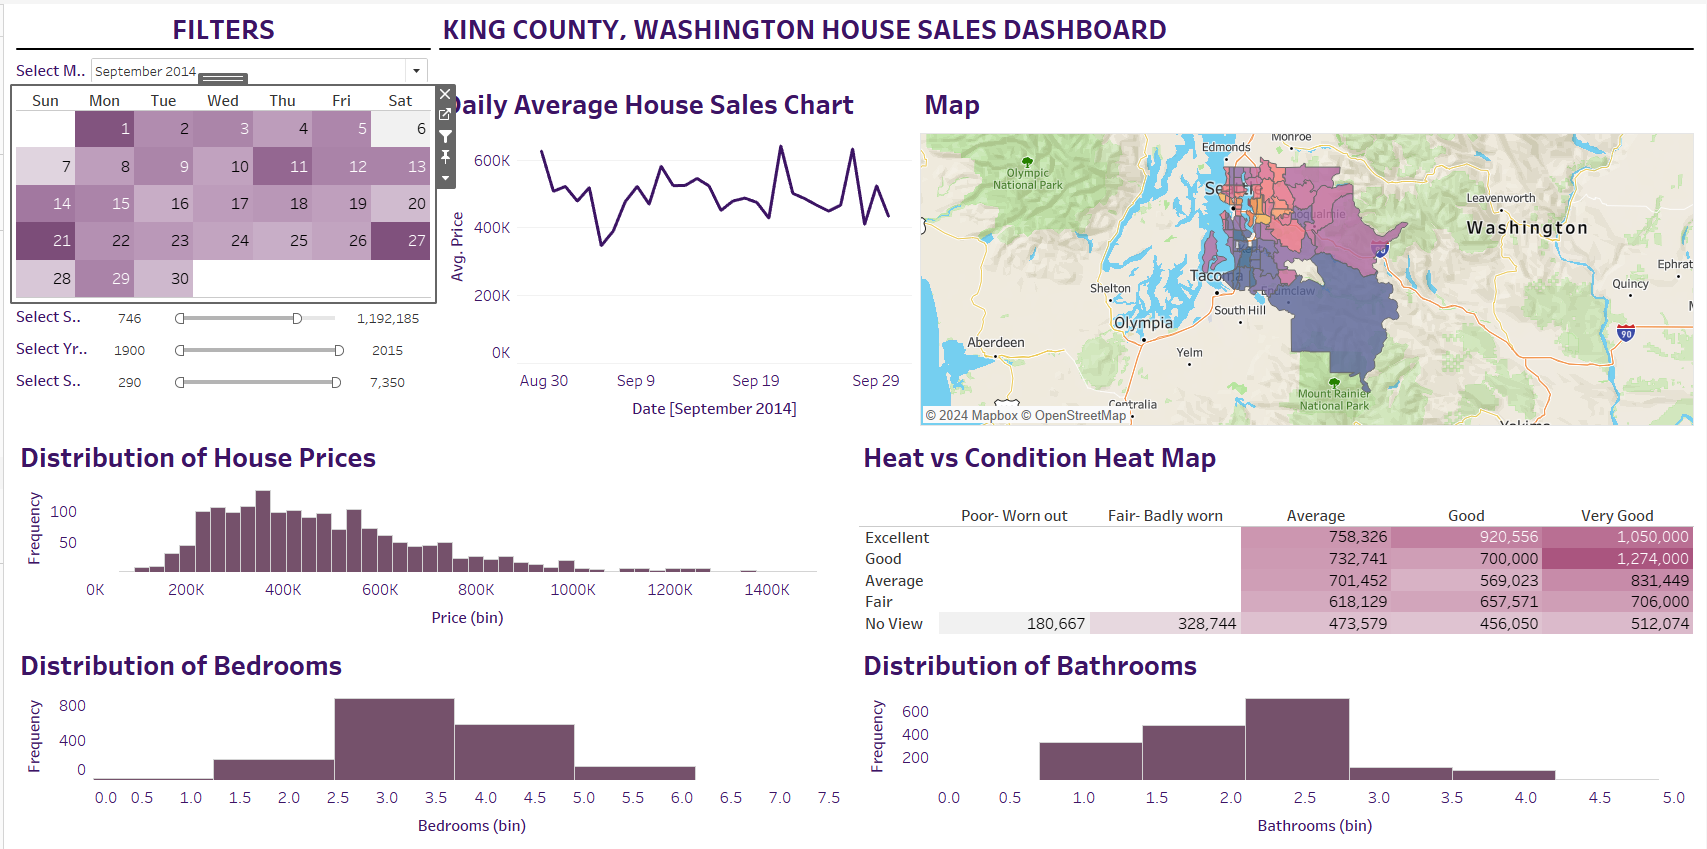

What the dashboard file says about the page in this screenshot:
{"tool":"tableau","page":{"name":"KingCountySalesDashboard","canvas":[1000,1000],"units":"permille","ordinal":0},"visuals":[{"type":"text","box":[4.7,9.4,248.5,37.6]},{"type":"text","box":[253.2,9.4,742.1,37.6]},{"type":"blank","box":[4.7,47,248.5,11.8]},{"type":"blank","box":[253.2,47,742.1,11.8]},{"type":"filter","title":"Calendar","param":"[federated.1i957kf04trd4o1b6taf509li0nt].[my:date:ok]","box":[4.7,58.8,248.5,37.6]},{"type":"worksheet","title":"Line Chart","mark":"Automatic","rows":["price"],"cols":["date"],"box":[253.2,85.6,282.5,414.4]},{"type":"worksheet","title":"Map","mark":"Automatic","box":[535.8,85.6,459.5,414.4]},{"type":"worksheet","title":"Calendar","mark":"Square","rows":["date"],"cols":["date"],"box":[4.7,96.4,248.5,253.2]},{"type":"filter","title":"Calendar","param":"[federated.1i957kf04trd4o1b6taf509li0nt].[none:sqft_lot:qk]","box":[4.7,349.6,248.5,37.6]},{"type":"filter","title":"Calendar","param":"[federated.1i957kf04trd4o1b6taf509li0nt].[none:yr_built:qk]","box":[4.7,387.2,248.5,37.6]},{"type":"filter","title":"Calendar","param":"[federated.1i957kf04trd4o1b6taf509li0nt].[none:sqft_living:qk]","box":[4.7,424.8,248.5,37.6]},{"type":"worksheet","title":"Histogram House Price ","mark":"Automatic","rows":["price"],"cols":["Price (bin)"],"box":[4.7,500,495.3,245.3]},{"type":"worksheet","title":"Heat Map","mark":"Square","rows":["view"],"cols":["condition"],"box":[500,500,495.3,245.3]},{"type":"worksheet","title":"Hist Bedrooms","mark":"Automatic","rows":["bedrooms"],"cols":["Bedrooms (bin)"],"box":[4.7,745.3,495.3,245.3]},{"type":"worksheet","title":"Hist Bathrooms","mark":"Automatic","rows":["bathrooms"],"cols":["Bathrooms (bin)"],"box":[500,745.3,495.3,245.3]}]}

Visuals, with their boxes on the dashboard's canvas, which has no fixed pixel size, in thousandths of its width and height (x1, y1, x2, y2). These are canvas units, not pixel positions in the 1707x849 screenshot, which may show the page scaled, cropped or inside an application window:
text: locate(5, 9, 253, 47)
text: locate(253, 9, 995, 47)
blank: locate(5, 47, 253, 59)
blank: locate(253, 47, 995, 59)
"Calendar" filter: locate(5, 59, 253, 96)
"Line Chart" worksheet: locate(253, 86, 536, 500)
"Map" worksheet: locate(536, 86, 995, 500)
"Calendar" worksheet (Square marks): locate(5, 96, 253, 350)
"Calendar" filter: locate(5, 350, 253, 387)
"Calendar" filter: locate(5, 387, 253, 425)
"Calendar" filter: locate(5, 425, 253, 462)
"Histogram House Price " worksheet: locate(5, 500, 500, 745)
"Heat Map" worksheet (Square marks): locate(500, 500, 995, 745)
"Hist Bedrooms" worksheet: locate(5, 745, 500, 991)
"Hist Bathrooms" worksheet: locate(500, 745, 995, 991)
